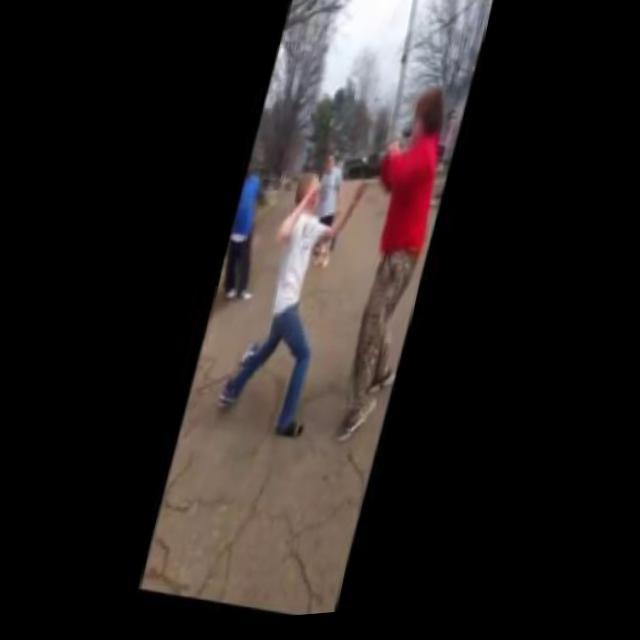fight: (212, 62, 456, 468)
